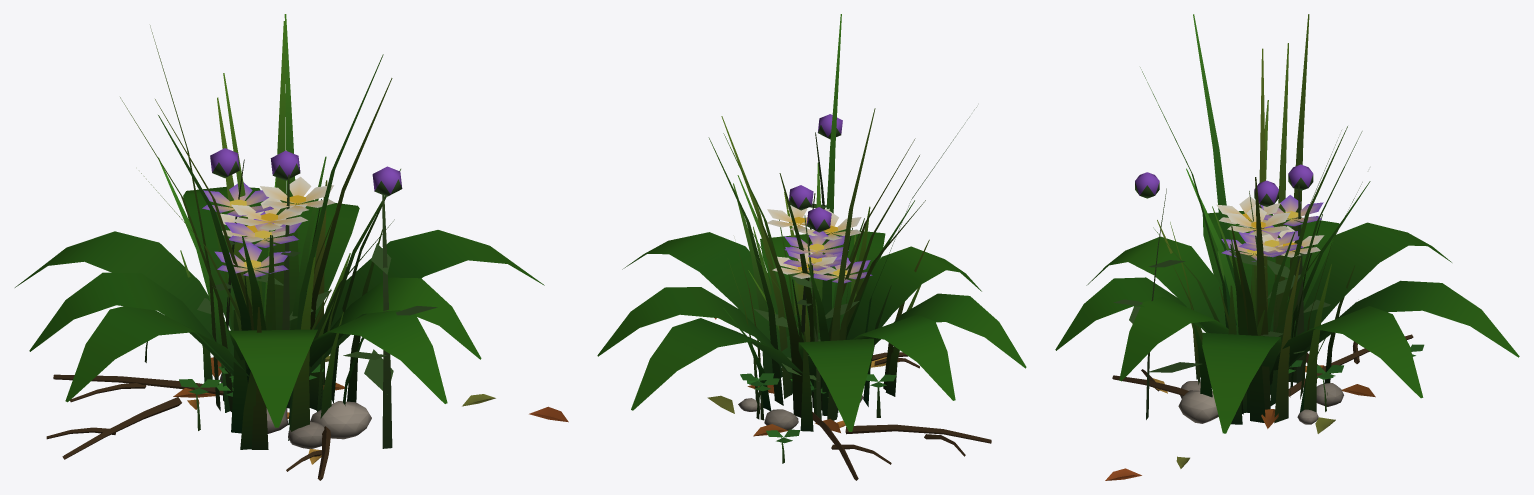
The model's file is vegetation.glb.
The picture shows the model from 3 angles, left to right: view 1: azimuth 30°, elevation 25°; view 2: azimuth 150°, elevation 25°; view 3: azimuth 270°, elevation 25°; orthographic projection. The views are drawn at different scales.
Parts seen in each view (by area): view 1: fern, tall_grass, grass_clump, thistle, flower_violet, flower_white, twigs, pebbles, leaf_litter, clover; view 2: fern, tall_grass, grass_clump, thistle, flower_violet, flower_white, twigs, clover, leaf_litter, pebbles; view 3: fern, tall_grass, grass_clump, thistle, flower_white, flower_violet, pebbles, leaf_litter, twigs, clover.
Boxes of the visible parts, x1=… form: fern: x1=15, y1=187, x2=544, y2=427; tall_grass: x1=120, y1=14, x2=400, y2=424; grass_clump: x1=180, y1=177, x2=394, y2=449; thistle: x1=197, y1=148, x2=437, y2=448; flower_violet: x1=202, y1=182, x2=301, y2=348; flower_white: x1=220, y1=176, x2=335, y2=330; twigs: x1=46, y1=374, x2=330, y2=480; pebbles: x1=219, y1=373, x2=371, y2=448; leaf_litter: x1=173, y1=355, x2=568, y2=464; clover: x1=144, y1=341, x2=323, y2=430; fern: x1=597, y1=229, x2=1026, y2=431; tall_grass: x1=708, y1=14, x2=976, y2=420; grass_clump: x1=723, y1=163, x2=929, y2=431; thistle: x1=753, y1=114, x2=859, y2=419; flower_violet: x1=783, y1=231, x2=872, y2=414; flower_white: x1=767, y1=206, x2=861, y2=342; twigs: x1=812, y1=352, x2=991, y2=480; clover: x1=740, y1=373, x2=896, y2=463; leaf_litter: x1=707, y1=318, x2=899, y2=436; pebbles: x1=738, y1=395, x2=863, y2=430; fern: x1=1055, y1=211, x2=1519, y2=433; tall_grass: x1=1140, y1=14, x2=1370, y2=412; grass_clump: x1=1153, y1=206, x2=1355, y2=424; thistle: x1=1113, y1=164, x2=1330, y2=419; flower_white: x1=1216, y1=196, x2=1324, y2=397; flower_violet: x1=1221, y1=195, x2=1323, y2=387; pebbles: x1=1178, y1=381, x2=1343, y2=424; leaf_litter: x1=1105, y1=365, x2=1375, y2=480; twigs: x1=1112, y1=334, x2=1413, y2=396; clover: x1=1288, y1=344, x2=1424, y2=411.
Bounding box in the file's own units: 1.15 × 0.9368 × 1.11.
